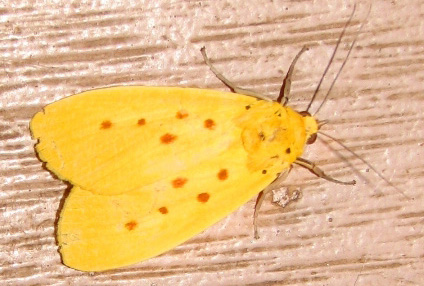Agape chloropyga: (21, 4, 404, 276)
moth: (23, 3, 406, 275)
